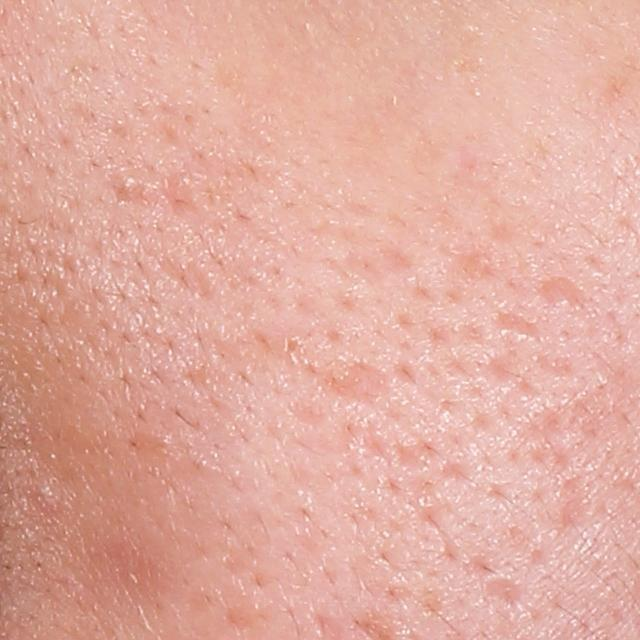atrophic_scar: (314, 359, 391, 407), (514, 402, 576, 448), (200, 326, 256, 376), (156, 254, 218, 299), (555, 471, 596, 532), (481, 348, 534, 389), (450, 251, 492, 301), (477, 570, 523, 615), (537, 277, 587, 318), (489, 310, 543, 347)
